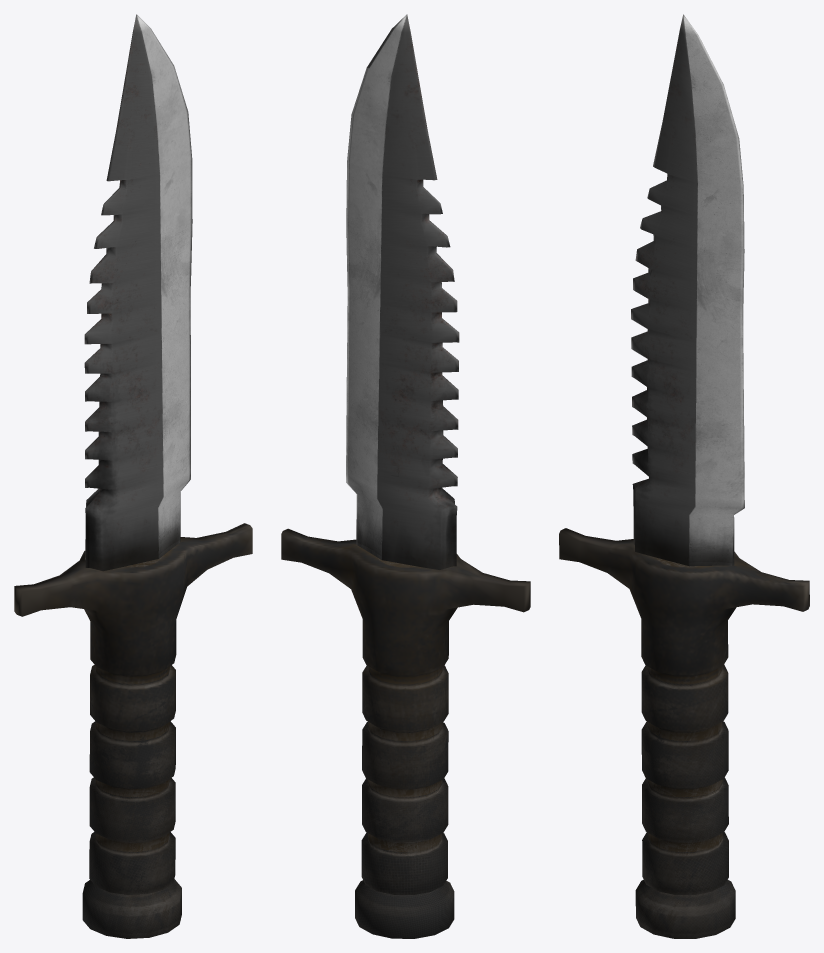
File: Knife.fbx
The picture shows the model from 3 angles, left to right: view 1: azimuth 30°, elevation 25°; view 2: azimuth 150°, elevation 25°; view 3: azimuth 330°, elevation 25°; orthographic projection.
Visible parts, largest first — view 1: knife_with_pouch; view 2: knife_with_pouch; view 3: knife_with_pouch.
Boxes of the visible parts, box(x1,y1,x2,y2) form: knife_with_pouch: box(14, 14, 252, 938); knife_with_pouch: box(281, 14, 530, 938); knife_with_pouch: box(559, 14, 809, 938).
Bounding box in the file's own units: 6.04 × 21.88 × 2.14.
